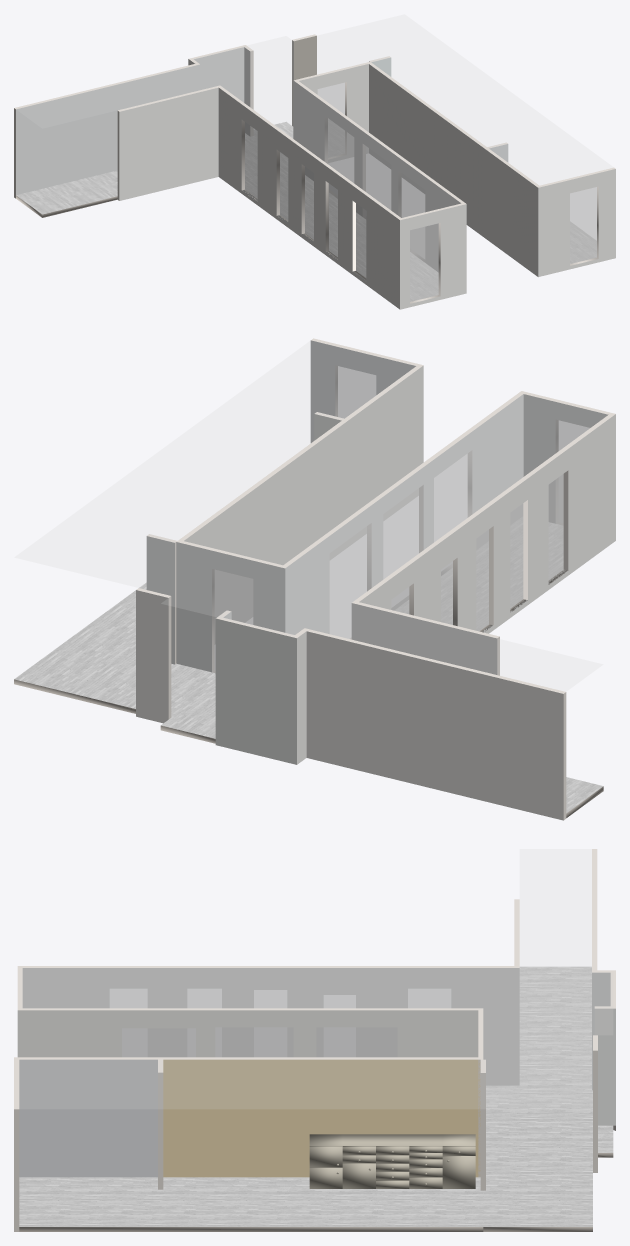
File: Area by stairs, 3rd floor.fbx
3 views of the same model, one above another, from view 1: azimuth 30°, elevation 25°; view 2: azimuth 150°, elevation 25°; view 3: azimuth 270°, elevation 25° (orthographic). The views are drawn at different scales.
Visible parts, largest first — view 1: node_cc602791_9619_46c1_8abe_9c81661ec50b_mesh0, node_0c73cde6_b29d_429d_9ea5_20fafba1972e_mesh0, node_f926749a_4f9a_4647_a112_b745be9c4f06_mesh0, node_e5166aa2_62e2_4f80_96c5_6753e36a1350_mesh0, node_54578ca7_77bb_4e6e_9ff5_1c4932b02c7f_mesh0, node_adc4cadd_edee_4e2a_a83a_5c570de7fa86_mesh0, node_df8c1604_6847_4174_ac87_6707bc2862a3_mesh0, node_f8b9bdd6_e515_4b2d_891b_88fffdb8d143_mesh0, node_8aba6add_eb3b_41c0_956c_2c24ba5cc975_mesh0, node_c3efed83_7ecf_4a9a_ac1c_e851d123c8a0_mesh0, node_0e7f2a95_f0ca_4de5_8fa9_3b14bf09bf6d_mesh0, node_1244f84a_a4f4_4646_a256_025e7f6780b2_mesh0 (+40 smaller); view 2: node_277ff06c_ae26_4451_a430_62ec9d3a559b_mesh0, node_f926749a_4f9a_4647_a112_b745be9c4f06_mesh0, node_54578ca7_77bb_4e6e_9ff5_1c4932b02c7f_mesh0, node_cc602791_9619_46c1_8abe_9c81661ec50b_mesh0, node_adc4cadd_edee_4e2a_a83a_5c570de7fa86_mesh0, node_f8b9bdd6_e515_4b2d_891b_88fffdb8d143_mesh0, node_df8c1604_6847_4174_ac87_6707bc2862a3_mesh0, node_9047f817_d4e8_4793_9430_3da6ec5c5e5a_mesh0, node_a4c851f1_362a_492e_9a41_fb4271003dcc_mesh0, node_c3efed83_7ecf_4a9a_ac1c_e851d123c8a0_mesh0, node_4970379a_35af_4b76_aa08_3942c557001c_mesh0, node_00236599_9ac6_4578_bff9_ae8912d56a99_mesh0 (+37 smaller); view 3: node_ccaec005_16ab_4028_acdf_fd670892c824_mesh0, node_bbbbef38_25bc_42cc_baa0_8b0567e7cb21_mesh0, node_b023472c_8f40_4395_a8fd_7ce8470c901f_mesh0, node_f926749a_4f9a_4647_a112_b745be9c4f06_mesh0, node_54578ca7_77bb_4e6e_9ff5_1c4932b02c7f_mesh0, node_4b1bf809_7433_49a7_9600_881c96a3f6fd_mesh0, node_a4c851f1_362a_492e_9a41_fb4271003dcc_mesh0, node_aeb96028_894e_42ed_9298_7a9d90f5f133_mesh0, node_df8c1604_6847_4174_ac87_6707bc2862a3_mesh0, node_124d7f5f_458e_4a6f_affc_241c8ba937ee_mesh0, node_3e15778b_9fe8_4756_ab2b_ebabc99ee166_mesh0, node_00236599_9ac6_4578_bff9_ae8912d56a99_mesh0 (+29 smaller).
Part boxes in pixels (x1=…): node_cc602791_9619_46c1_8abe_9c81661ec50b_mesh0: x1=218, y1=88, x2=399, y2=309; node_0c73cde6_b29d_429d_9ea5_20fafba1972e_mesh0: x1=16, y1=64, x2=200, y2=194; node_f926749a_4f9a_4647_a112_b745be9c4f06_mesh0: x1=234, y1=81, x2=459, y2=217; node_e5166aa2_62e2_4f80_96c5_6753e36a1350_mesh0: x1=119, y1=87, x2=218, y2=200; node_54578ca7_77bb_4e6e_9ff5_1c4932b02c7f_mesh0: x1=392, y1=44, x2=612, y2=179; node_adc4cadd_edee_4e2a_a83a_5c570de7fa86_mesh0: x1=369, y1=64, x2=484, y2=237; node_df8c1604_6847_4174_ac87_6707bc2862a3_mesh0: x1=194, y1=15, x2=430, y2=84; node_f8b9bdd6_e515_4b2d_891b_88fffdb8d143_mesh0: x1=293, y1=80, x2=460, y2=271; node_8aba6add_eb3b_41c0_956c_2c24ba5cc975_mesh0: x1=538, y1=169, x2=615, y2=276; node_c3efed83_7ecf_4a9a_ac1c_e851d123c8a0_mesh0: x1=484, y1=149, x2=538, y2=276; node_0e7f2a95_f0ca_4de5_8fa9_3b14bf09bf6d_mesh0: x1=400, y1=204, x2=466, y2=309; node_1244f84a_a4f4_4646_a256_025e7f6780b2_mesh0: x1=245, y1=168, x2=438, y2=301; node_277ff06c_ae26_4451_a430_62ec9d3a559b_mesh0: x1=306, y1=631, x2=563, y2=820; node_f926749a_4f9a_4647_a112_b745be9c4f06_mesh0: x1=286, y1=394, x2=606, y2=588; node_54578ca7_77bb_4e6e_9ff5_1c4932b02c7f_mesh0: x1=72, y1=341, x2=386, y2=534; node_cc602791_9619_46c1_8abe_9c81661ec50b_mesh0: x1=359, y1=414, x2=615, y2=633; node_adc4cadd_edee_4e2a_a83a_5c570de7fa86_mesh0: x1=184, y1=421, x2=347, y2=643; node_f8b9bdd6_e515_4b2d_891b_88fffdb8d143_mesh0: x1=285, y1=394, x2=523, y2=634; node_df8c1604_6847_4174_ac87_6707bc2862a3_mesh0: x1=15, y1=530, x2=349, y2=635; node_9047f817_d4e8_4793_9430_3da6ec5c5e5a_mesh0: x1=215, y1=618, x2=296, y2=764; node_a4c851f1_362a_492e_9a41_fb4271003dcc_mesh0: x1=14, y1=638, x2=215, y2=738; node_c3efed83_7ecf_4a9a_ac1c_e851d123c8a0_mesh0: x1=348, y1=365, x2=423, y2=546; node_4970379a_35af_4b76_aa08_3942c557001c_mesh0: x1=176, y1=542, x2=285, y2=672; node_00236599_9ac6_4578_bff9_ae8912d56a99_mesh0: x1=149, y1=360, x2=415, y2=540; node_ccaec005_16ab_4028_acdf_fd670892c824_mesh0: x1=163, y1=1059, x2=480, y2=1177; node_bbbbef38_25bc_42cc_baa0_8b0567e7cb21_mesh0: x1=22, y1=968, x2=519, y2=1085; node_b023472c_8f40_4395_a8fd_7ce8470c901f_mesh0: x1=19, y1=1177, x2=483, y2=1226; node_f926749a_4f9a_4647_a112_b745be9c4f06_mesh0: x1=23, y1=968, x2=482, y2=1007; node_54578ca7_77bb_4e6e_9ff5_1c4932b02c7f_mesh0: x1=20, y1=1073, x2=482, y2=1108; node_4b1bf809_7433_49a7_9600_881c96a3f6fd_mesh0: x1=19, y1=1059, x2=157, y2=1177; node_a4c851f1_362a_492e_9a41_fb4271003dcc_mesh0: x1=483, y1=1085, x2=613, y2=1226; node_aeb96028_894e_42ed_9298_7a9d90f5f133_mesh0: x1=17, y1=1010, x2=478, y2=1057; node_df8c1604_6847_4174_ac87_6707bc2862a3_mesh0: x1=520, y1=968, x2=612, y2=1108; node_124d7f5f_458e_4a6f_affc_241c8ba937ee_mesh0: x1=309, y1=1134, x2=475, y2=1188; node_3e15778b_9fe8_4756_ab2b_ebabc99ee166_mesh0: x1=519, y1=966, x2=591, y2=1085; node_00236599_9ac6_4578_bff9_ae8912d56a99_mesh0: x1=20, y1=1060, x2=482, y2=1072.
Size of the model in its own units: 1180 by 259 by 1154.
Materials: 19 (4 with a texture image).
